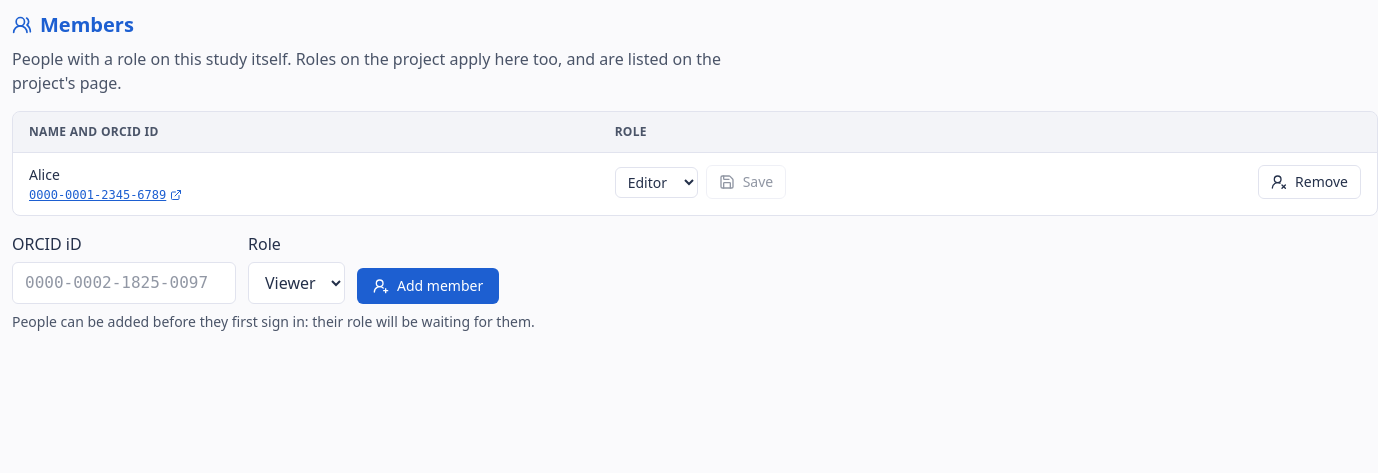
Test case: MembersSection › says when a change to a study is refused
The image size is (1378, 473).
Click the button with aria-label "Remove Alice" at {"x": 1310, "y": 182}, box [1258,165,1361,199]
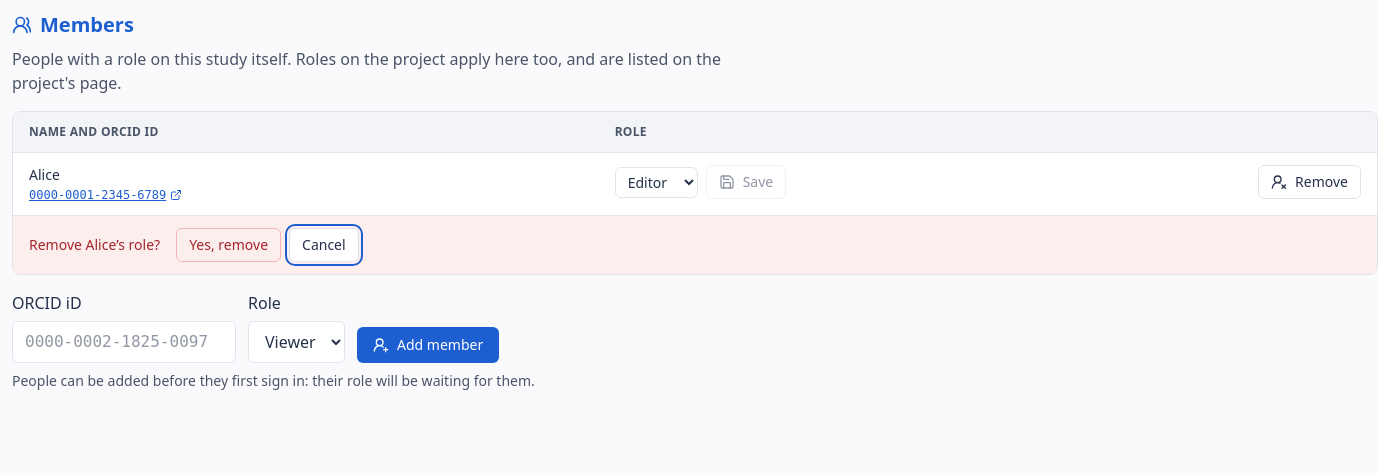
Click the button "Yes, remove" at {"x": 229, "y": 245}, box [176,228,281,262]
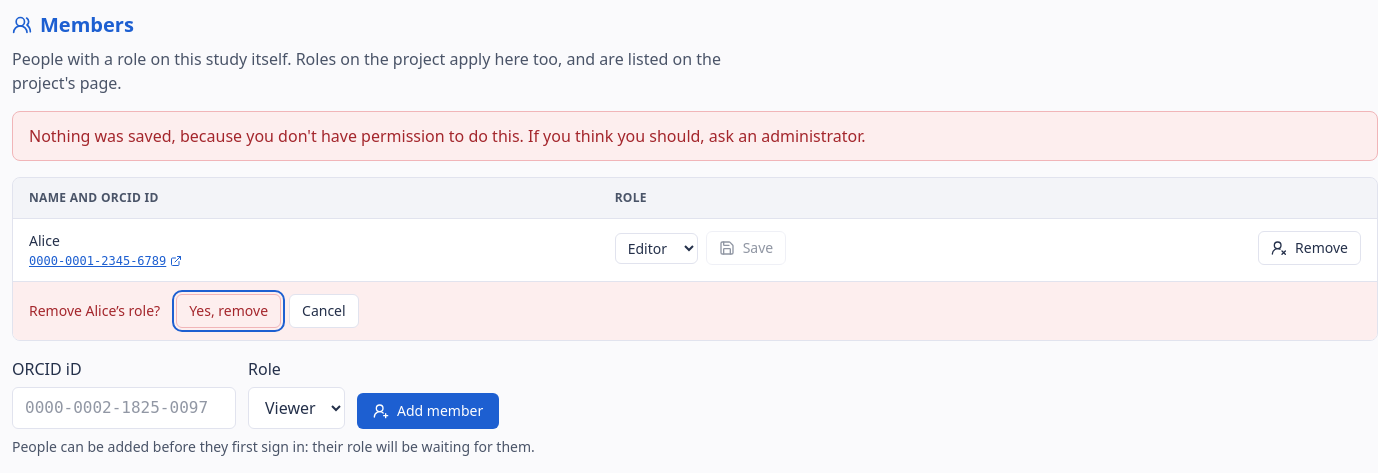
Expected: the message shows "you don't have permission", [29,125,866,147]
